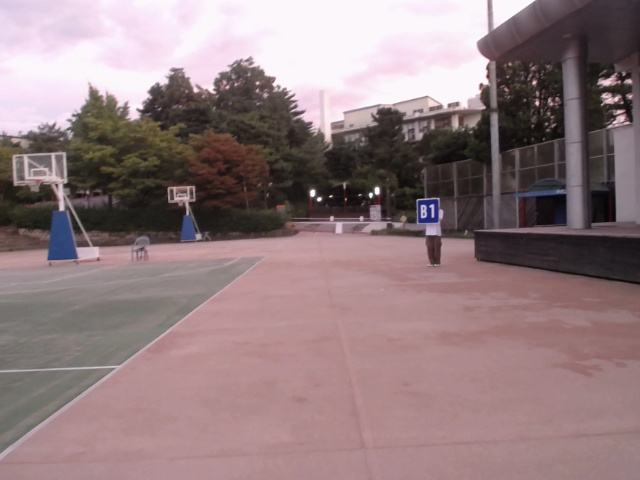delivery_b1: (416, 199, 439, 224)
